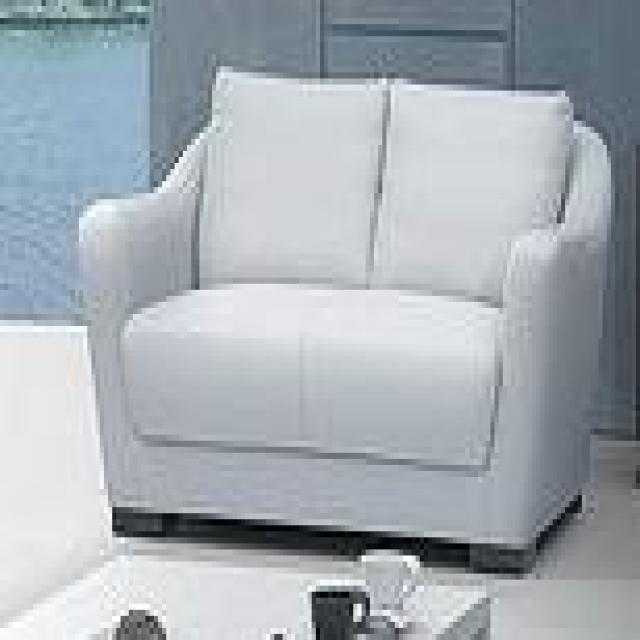sofa: (76, 68, 612, 576)
